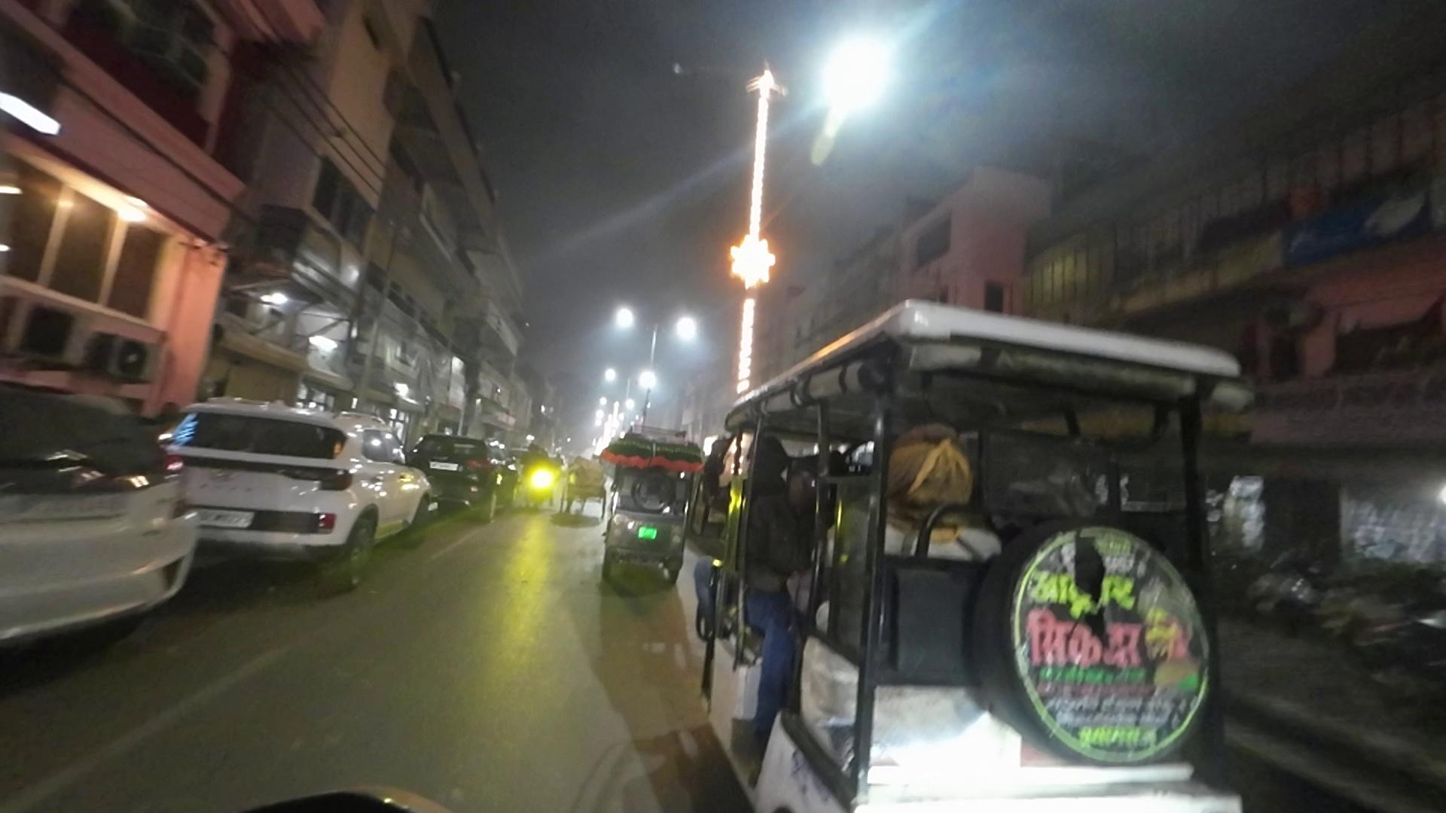streetlight: (666, 57, 742, 80)
